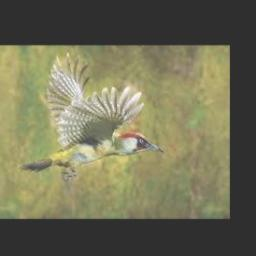Woodpecker: (18, 52, 164, 181)
